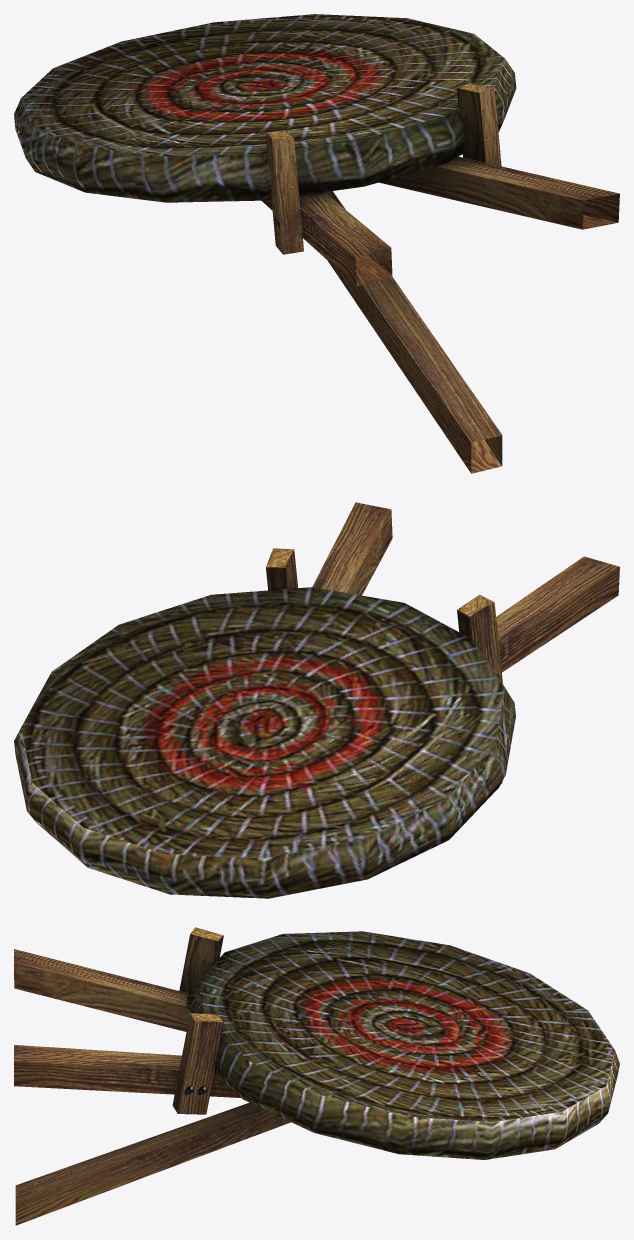
File: archery-target.dae
The picture shows the model from 3 angles, top to bottom: view 1: azimuth 30°, elevation 25°; view 2: azimuth 150°, elevation 25°; view 3: azimuth 270°, elevation 25°; orthographic projection. The views are drawn at different scales.
Parts seen in each view (by area): view 1: archerytarget; view 2: archerytarget; view 3: archerytarget.
Boxes of the visible parts, bbox=[...] form: archerytarget: bbox=[14, 14, 619, 473]; archerytarget: bbox=[14, 502, 619, 898]; archerytarget: bbox=[14, 927, 619, 1225].
Bounding box in the file's own units: 106 × 65.54 × 147.
Materials: 1 (1 with a texture image).
